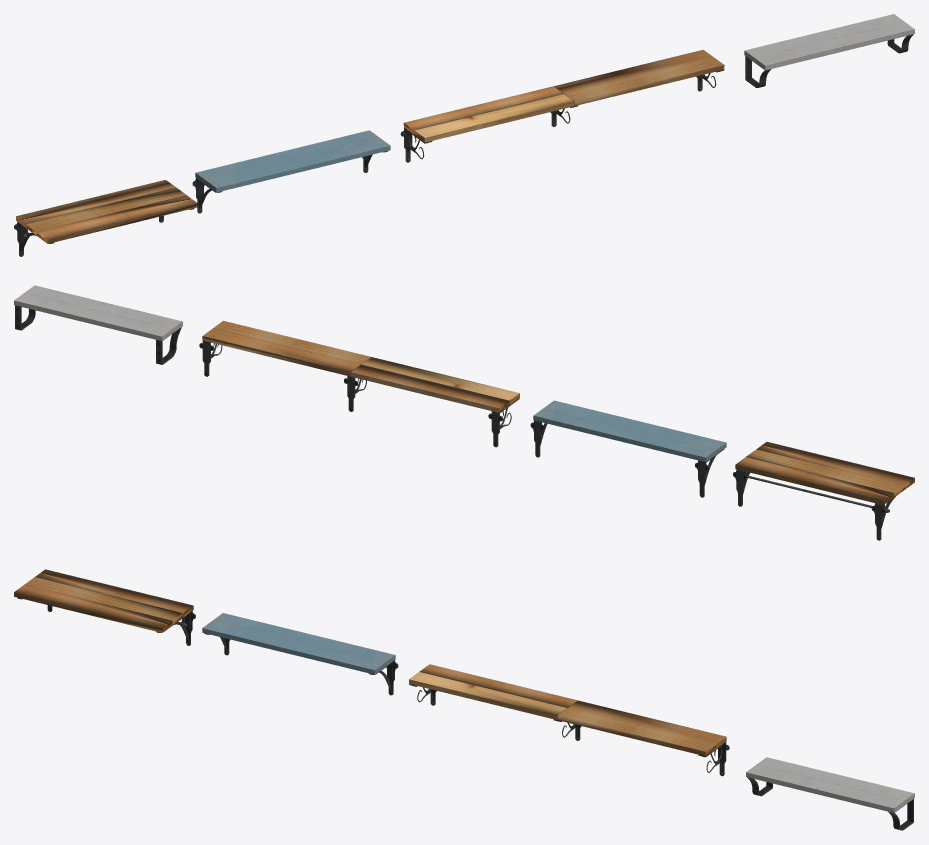
The model's file is wall_shelf_simple_wooden_shelves_type_mad_lobster.glb.
3 views of the same model, one above another, from view 1: azimuth 30°, elevation 25°; view 2: azimuth 150°, elevation 25°; view 3: azimuth 330°, elevation 25° (orthographic).
Visible parts, largest first — view 1: Object_4, Object_8, Object_10; view 2: Object_4, Object_8, Object_10; view 3: Object_4, Object_8, Object_10.
Boxes of the visible parts, x1=… form: Object_4: x1=14, y1=49, x2=724, y2=256; Object_8: x1=192, y1=130, x2=390, y2=213; Object_10: x1=744, y1=14, x2=914, y2=87; Object_4: x1=199, y1=320, x2=914, y2=540; Object_8: x1=530, y1=400, x2=726, y2=497; Object_10: x1=14, y1=285, x2=182, y2=364; Object_4: x1=14, y1=569, x2=729, y2=776; Object_8: x1=202, y1=613, x2=398, y2=695; Object_10: x1=746, y1=757, x2=914, y2=830.
Bounding box in the file's own units: 3.08 × 0.1393 × 0.1927.
3 materials, 3 textured.
